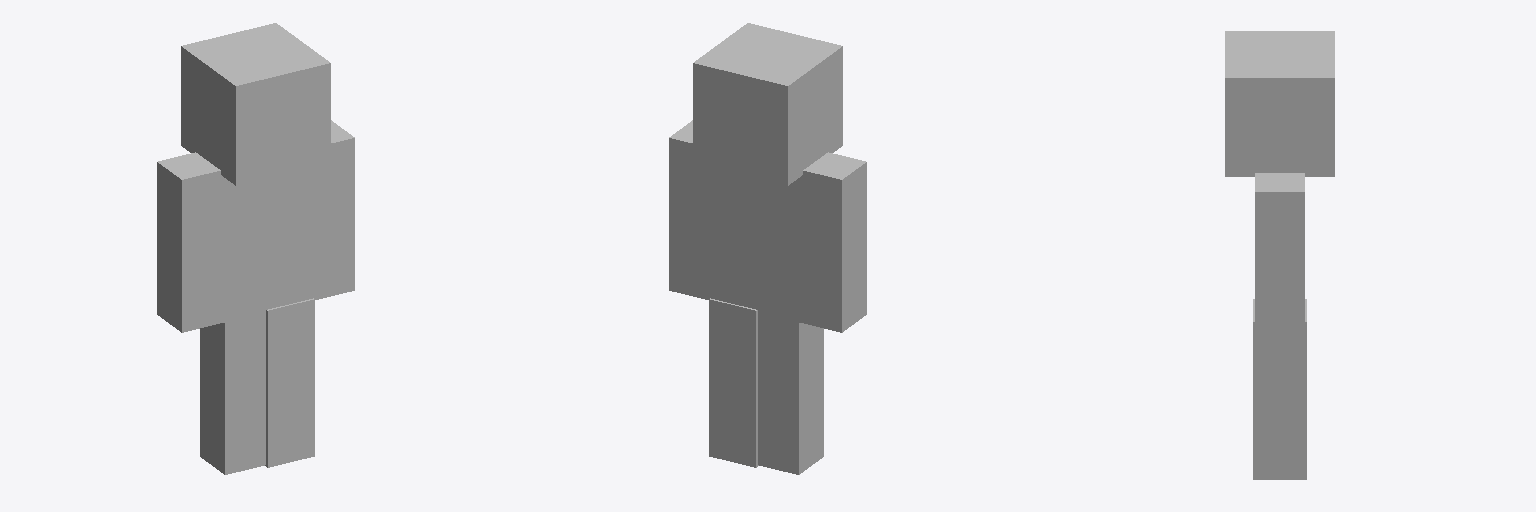
Rendered from vl_cosmetics_leg_right.obj.
The picture shows the model from 3 angles: view 1: azimuth 30°, elevation 25°; view 2: azimuth 150°, elevation 25°; view 3: azimuth 270°, elevation 25°; orthographic projection.
Parts seen in each view (by area): view 1: LegrPreview_Cube.021, Leg_Right_Cube.006; view 2: LegrPreview_Cube.021, Leg_Right_Cube.006; view 3: LegrPreview_Cube.021, Leg_Right_Cube.006.
Part boxes in pixels (left/top/right/bottom): LegrPreview_Cube.021: left=157, top=23, right=354, bottom=474; Leg_Right_Cube.006: left=265, top=298, right=314, bottom=467; LegrPreview_Cube.021: left=669, top=23, right=866, bottom=474; Leg_Right_Cube.006: left=709, top=298, right=758, bottom=467; LegrPreview_Cube.021: left=1225, top=31, right=1334, bottom=344; Leg_Right_Cube.006: left=1253, top=299, right=1306, bottom=479.
Size of the model in its own units: 8 by 17.79 by 4.4.